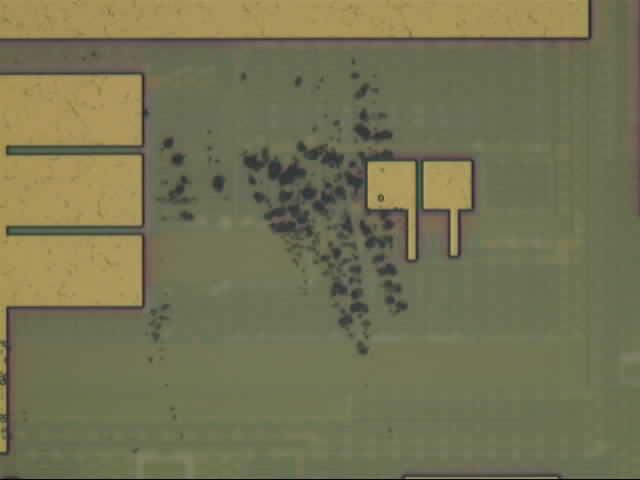PO CONTAMINATION: (133, 54, 409, 457)
